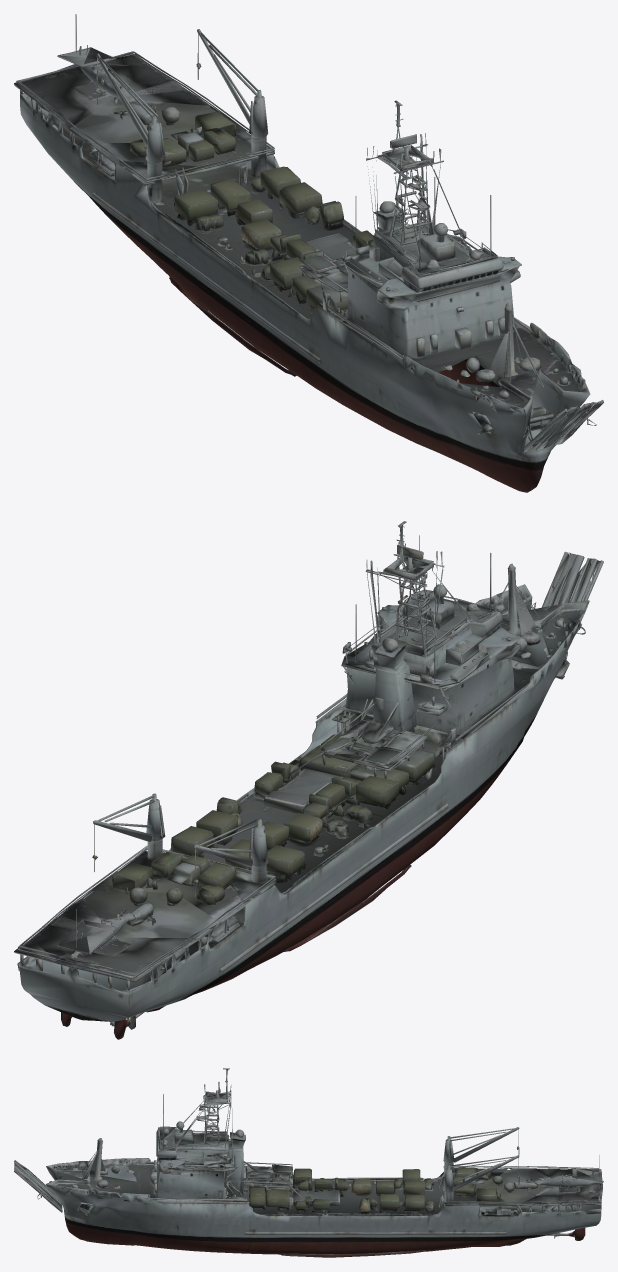
Rendered from transport_ship.glb.
3 views of the same model, one above another, from view 1: azimuth 30°, elevation 25°; view 2: azimuth 150°, elevation 25°; view 3: azimuth 270°, elevation 25° (orthographic). The views are drawn at different scales.
Parts seen in each view (by area): view 1: hull; view 2: hull; view 3: hull.
Boxes of the visible parts, x1=… form: hull: x1=14, y1=14, x2=603, y2=492; hull: x1=14, y1=521, x2=603, y2=1039; hull: x1=14, y1=1068, x2=603, y2=1257.
Bounding box in the file's own units: 21.33 × 46.52 × 140.
Materials: 3 (3 with a texture image).
